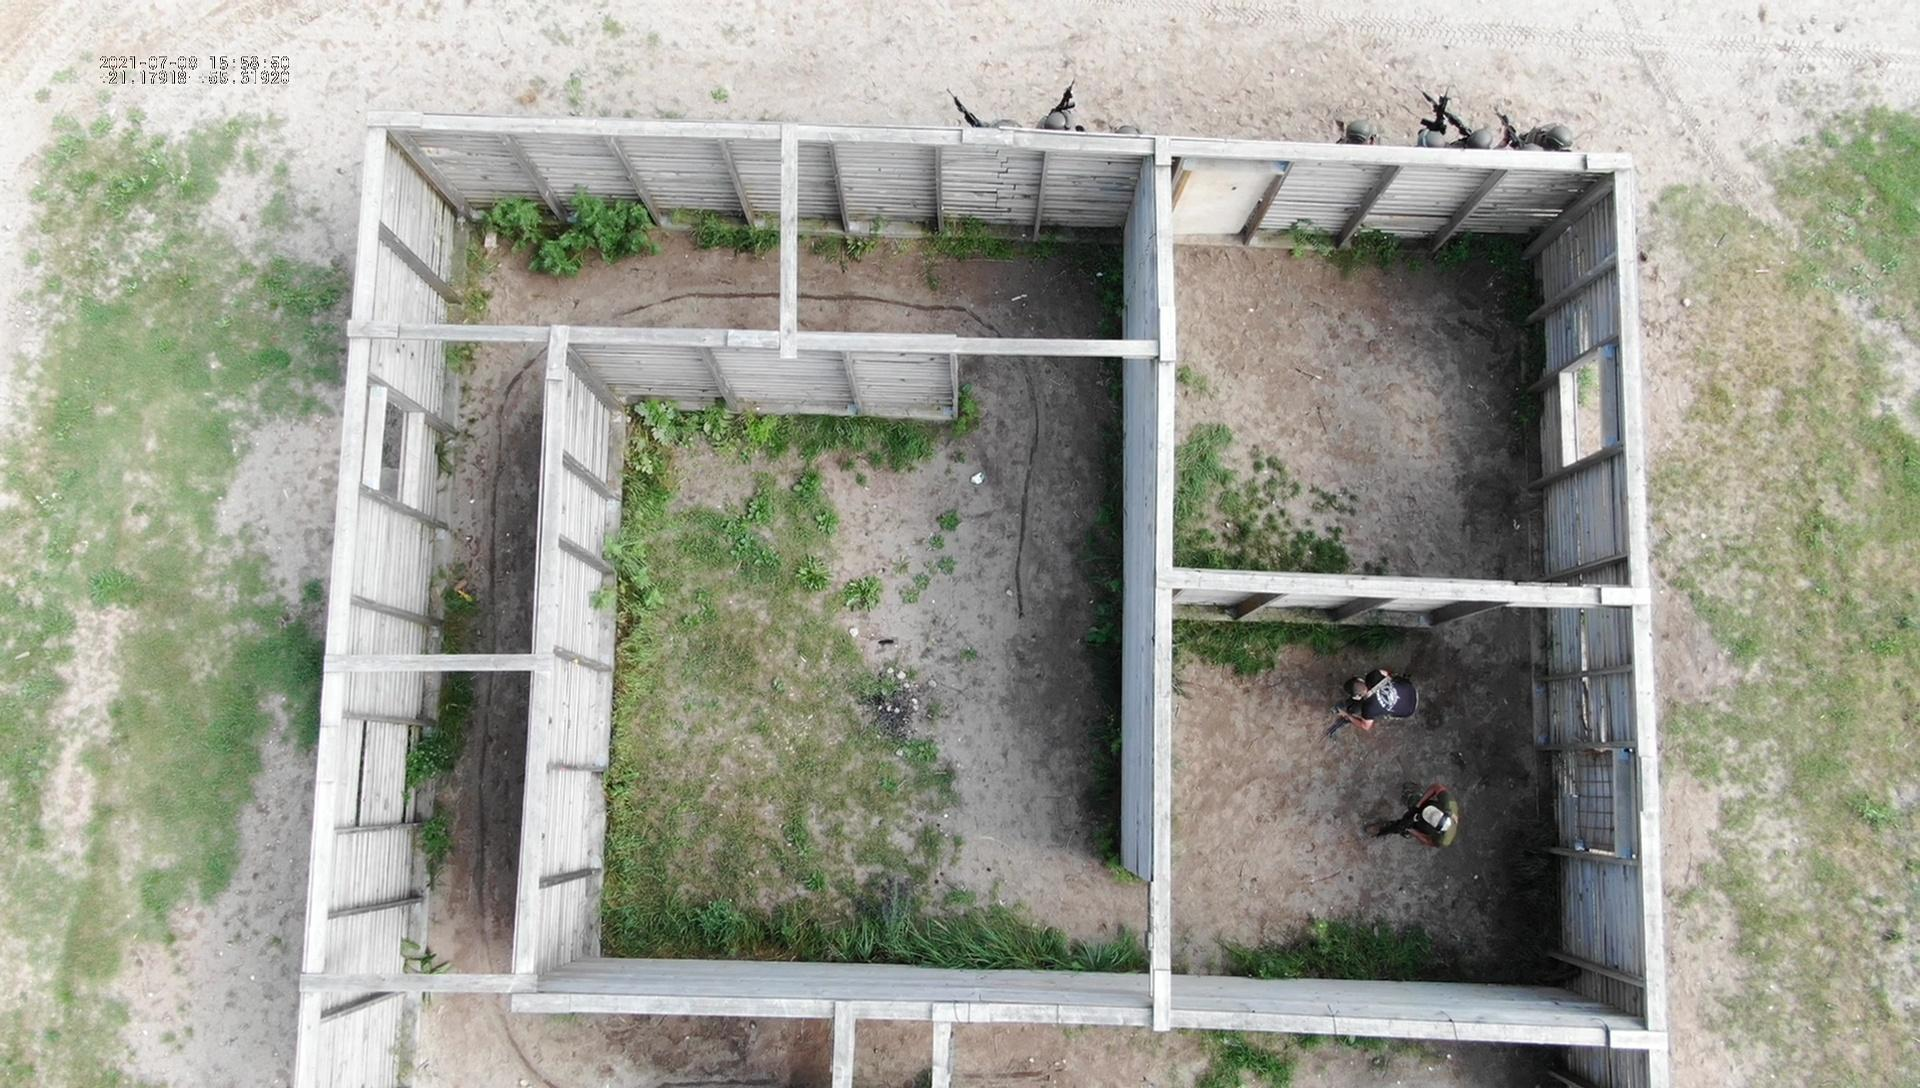Soldier: (1324, 657, 1432, 766), (1362, 779, 1494, 864), (1524, 123, 1582, 171), (1414, 88, 1456, 154), (1451, 109, 1505, 150), (1040, 84, 1081, 132)
